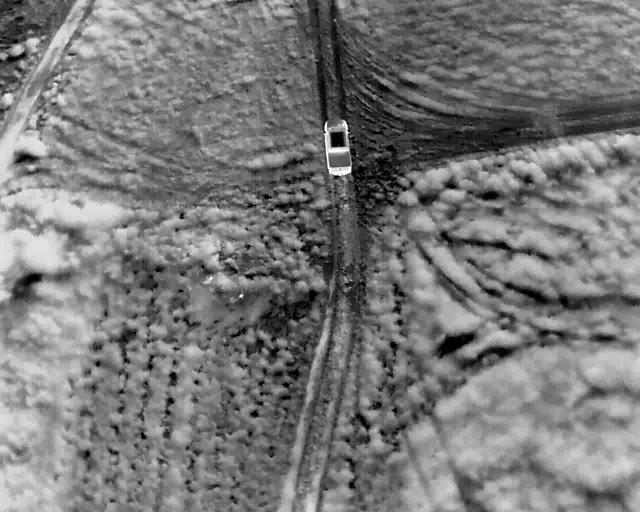car: (323, 117, 351, 177)
